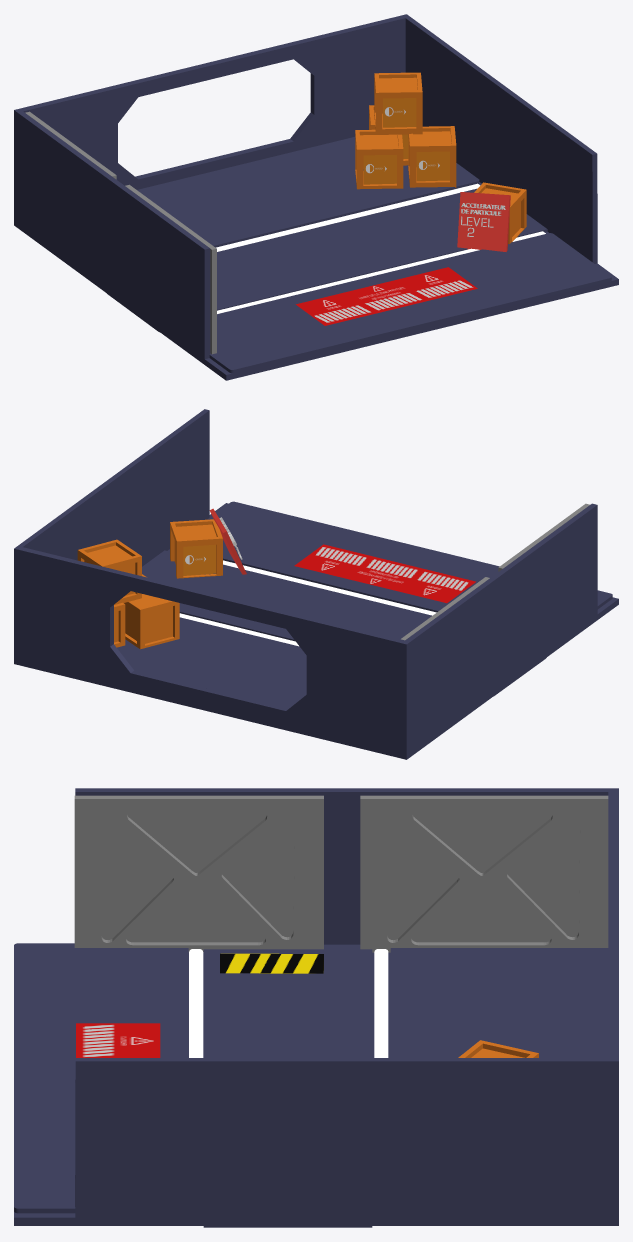
The model's file is Level04.glb.
3 views of the same model, one above another, from view 1: azimuth 30°, elevation 25°; view 2: azimuth 150°, elevation 25°; view 3: azimuth 270°, elevation 25° (orthographic). The views are drawn at different scales.
Parts seen in each view (by area): view 1: Cube.208, Cube.213, Cube.215, Cube.214, Cube.221, Cube.219, Cube.220, Cube.210, Plane.080, Plane.081, Plane.079, Cube.212 (+3 smaller); view 2: Cube.208, Cube.213, Cube.215, Cube.214, Cube.209, Cube.220, Cube.221, Plane.080, Plane.079, Plane.081, Cube.211, Cube.212 (+1 smaller); view 3: Cube.208, Cube.216, Cube.217, Cube.213, Cube.215, Cube.214, Plane.079, Plane.082, Cube.211, Cube.212, Cube.221.
Part boxes in pixels (x1=…): Cube.208: x1=14, y1=14, x2=618, y2=380; Cube.213: x1=209, y1=233, x2=611, y2=373; Cube.215: x1=137, y1=137, x2=479, y2=247; Cube.214: x1=107, y1=188, x2=547, y2=331; Cube.221: x1=374, y1=72, x2=422, y2=134; Cube.219: x1=408, y1=126, x2=456, y2=187; Cube.220: x1=355, y1=129, x2=403, y2=189; Cube.210: x1=457, y1=192, x2=510, y2=251; Plane.080: x1=397, y1=267, x2=477, y2=300; Plane.081: x1=347, y1=279, x2=426, y2=313; Plane.079: x1=296, y1=292, x2=375, y2=325; Cube.212: x1=216, y1=183, x2=480, y2=251; Cube.208: x1=14, y1=409, x2=618, y2=759; Cube.213: x1=207, y1=501, x2=612, y2=612; Cube.215: x1=117, y1=617, x2=306, y2=708; Cube.214: x1=142, y1=550, x2=546, y2=695; Cube.209: x1=170, y1=519, x2=222, y2=578; Cube.220: x1=124, y1=594, x2=179, y2=649; Cube.221: x1=77, y1=539, x2=141, y2=604; Plane.080: x1=294, y1=544, x2=374, y2=578; Plane.079: x1=396, y1=569, x2=475, y2=603; Plane.081: x1=345, y1=557, x2=424, y2=590; Cube.211: x1=223, y1=560, x2=436, y2=615; Cube.212: x1=179, y1=613, x2=298, y2=646; Cube.208: x1=14, y1=788, x2=618, y2=1225; Cube.216: x1=74, y1=795, x2=323, y2=952; Cube.217: x1=360, y1=795, x2=608, y2=952; Cube.213: x1=14, y1=943, x2=188, y2=1213; Cube.215: x1=390, y1=948, x2=608, y2=1057; Cube.214: x1=203, y1=944, x2=372, y2=1227; Plane.079: x1=76, y1=1023, x2=160, y2=1057; Plane.082: x1=220, y1=953, x2=323, y2=973; Cube.211: x1=189, y1=949, x2=203, y2=1057; Cube.212: x1=374, y1=949, x2=388, y2=1057; Cube.221: x1=458, y1=1040, x2=538, y2=1057.
Size of the model in its own units: 72.61 by 20.92 by 67.96.
Materials: 10 (4 with a texture image).
